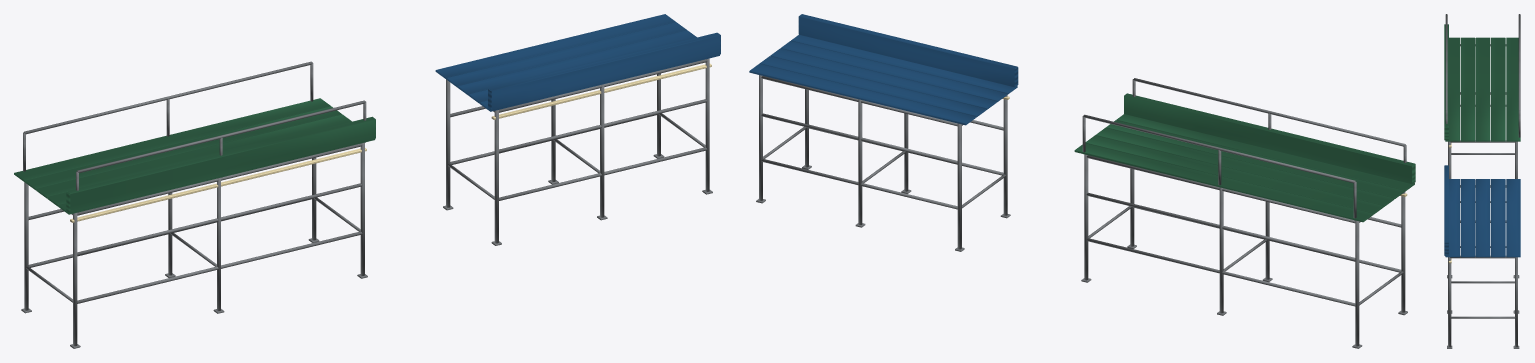
File: scaffold_shed.glb
3 views of the same model, side by side, from view 1: azimuth 30°, elevation 25°; view 2: azimuth 150°, elevation 25°; view 3: azimuth 270°, elevation 25° (orthographic). The views are drawn at different scales.
Parts seen in each view (by area): view 1: scaffold_shed_v1, scaffold_shed_v2; view 2: scaffold_shed_v1, scaffold_shed_v2; view 3: scaffold_shed_v1, scaffold_shed_v2.
Part boxes in pixels (x1,y1,x2,y2): scaffold_shed_v1: (14,61,375,348); scaffold_shed_v2: (435,14,720,245); scaffold_shed_v1: (1074,78,1415,348); scaffold_shed_v2: (749,14,1018,251); scaffold_shed_v1: (1444,14,1520,202); scaffold_shed_v2: (1444,165,1520,348).
Bounding box in the file's own units: 17 × 4.43 × 2.52.
Materials: 2 (2 with a texture image).
